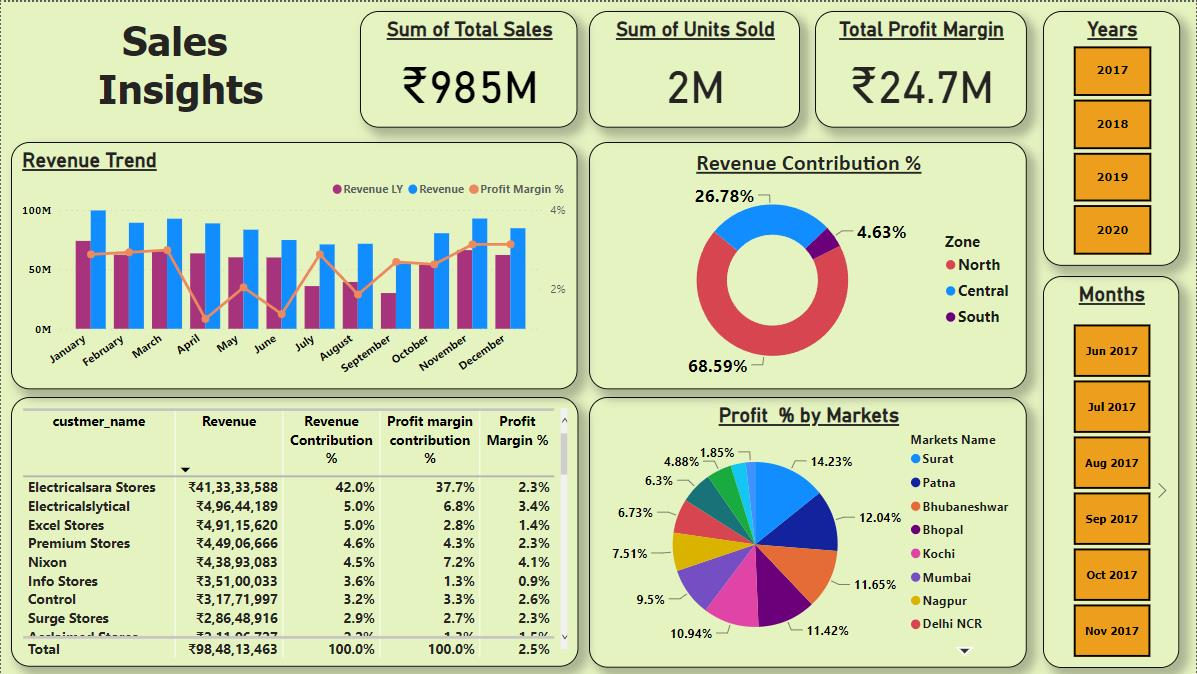

This screenshot's page, from the dashboard's own definition file:
{"tool":"powerbi","page":{"name":"Performance insight","canvas":[1280,720],"ordinal":0},"visuals":[{"type":"card","title":"Sum of Total Sales","fields":{"Values":["BaseMeasures.Revenue"]},"box":[385.1,9.7,233,125.1],"z":0},{"type":"card","title":"Sum of Units Sold","fields":{"Values":["BaseMeasures.Sales Qty"]},"box":[630,9.6,226.1,125.4],"z":1000},{"type":"donutChart","title":"Revenue Contribution %","fields":{"Category":["sales markets.zone","sales markets.markets_name"],"Y":["BaseMeasures.Revenue Contribution %"]},"box":[629.9,149.9,469.2,265.3],"z":2000},{"type":"slicer","title":"Years","fields":{"Values":["sales date.year"]},"box":[1116.4,9.6,146.8,273.2],"z":3000},{"type":"slicer","title":"Months","fields":{"Values":["sales date.cy_date"]},"box":[1116.4,293.4,145.6,419.6],"z":4000},{"type":"tableEx","title":"Top 5 customers","fields":{"Values":["sales customers.custmer_name","BaseMeasures.Revenue","BaseMeasures.Revenue Contribution %","BaseMeasures.profit margin contribution %","BaseMeasures.Profit Margin %"]},"box":[10.7,423.2,607.5,289.3],"z":5000},{"type":"lineClusteredColumnComboChart","title":"Revenue Trend","fields":{"Category":["sales date.cy_date.Variation.Date Hierarchy.Month"],"Y":["BaseMeasures.Revenue LY","BaseMeasures.Revenue"],"Y2":["BaseMeasures.Profit Margin %"]},"box":[10.8,149.9,607.3,265.3],"z":6000},{"type":"card","title":"Total Profit Margin","fields":{"Values":["BaseMeasures.Total profit margin"]},"box":[872.6,9.7,226.5,125.1],"z":7000},{"type":"pieChart","title":"Profit  % by Markets","fields":{"Category":["sales markets.markets_name"],"Y":["BaseMeasures.Profit Margin %"]},"box":[629.9,422.8,469.2,290.2],"z":8000},{"type":"textbox","box":[10.7,9.6,363.2,125.4],"z":9000}]}

Visuals, with their boxes in screenshot pixels (x1, y1, x2, y2), scaled from the page's 1280x720 canvas onto the 1197x674 screenshot:
"Sum of Total Sales" card: select_region(360, 9, 578, 126)
"Sum of Units Sold" card: select_region(589, 9, 801, 126)
"Revenue Contribution %" donutChart: select_region(589, 140, 1028, 389)
"Years" slicer: select_region(1044, 9, 1181, 265)
"Months" slicer: select_region(1044, 275, 1180, 667)
"Top 5 customers" tableEx: select_region(10, 396, 578, 667)
"Revenue Trend" lineClusteredColumnComboChart: select_region(10, 140, 578, 389)
"Total Profit Margin" card: select_region(816, 9, 1028, 126)
"Profit  % by Markets" pieChart: select_region(589, 396, 1028, 667)
textbox: select_region(10, 9, 350, 126)
